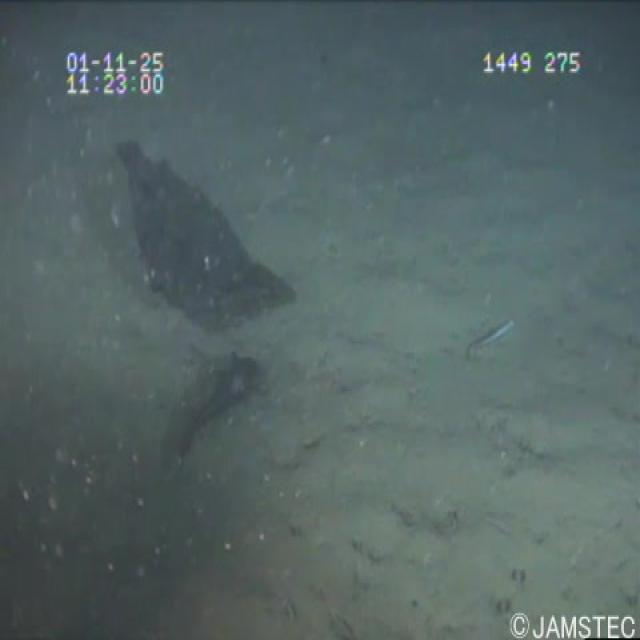plastic: (107, 130, 310, 340)
